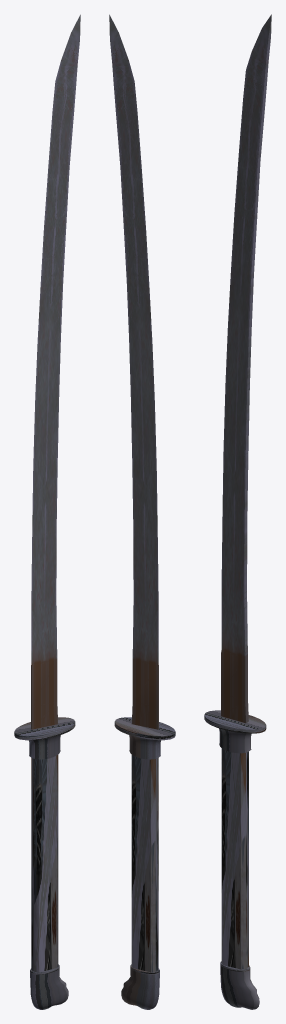
Rendered from Mesh_Weapon_6_0.FBX.
The picture shows the model from 3 angles, left to right: view 1: azimuth 30°, elevation 25°; view 2: azimuth 150°, elevation 25°; view 3: azimuth 330°, elevation 25°; orthographic projection.
Parts seen in each view (by area): view 1: Object021; view 2: Object021; view 3: Object021.
Part boxes in pixels (x1,y1,x2,y2): Object021: (14,14,80,1009); Object021: (109,14,175,1009); Object021: (204,14,271,1009).
Bounding box in the file's own units: 9.55 × 138 × 4.4.
